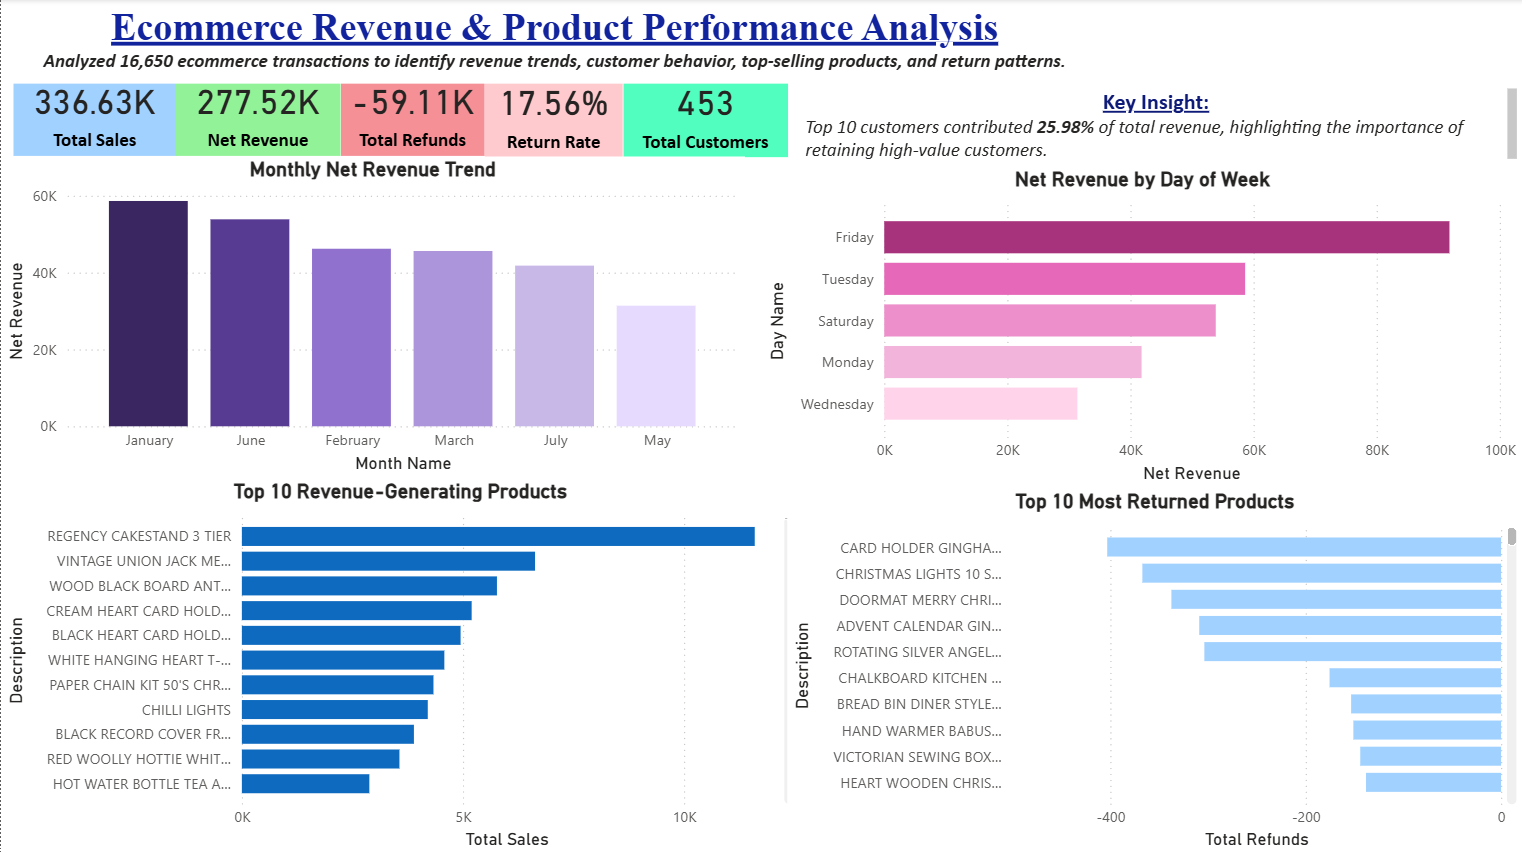

Layout of this report page (visuals, bound fields, positions):
{"tool":"powerbi","page":{"name":"Ecommerce Revenue & Product Performance Analysis","canvas":[1280,720],"ordinal":3},"visuals":[{"type":"card","fields":{"Values":["data.Total Sales"]},"box":[10.5,57,137.2,75.6],"z":0},{"type":"card","fields":{"Values":["data.Net Revenue"]},"box":[147.7,57,138.4,75.6],"z":1000},{"type":"card","fields":{"Values":["data.Total Refunds"]},"box":[286,57,120.9,75.6],"z":2000},{"type":"card","fields":{"Values":["data.Return Rate"]},"box":[407,58.1,116.3,75.6],"z":3000},{"type":"card","fields":{"Values":["data.Total Customers"]},"box":[523.3,58.1,138.4,75.6],"z":4000},{"type":"clusteredColumnChart","title":"Monthly Net Revenue Trend","fields":{"Category":["data.Month Name"],"Y":["data.Net Revenue"]},"box":[0,132.6,625.6,270.9],"z":5000},{"type":"clusteredBarChart","title":"Net Revenue by Day of Week","fields":{"Category":["data.Day Name"],"Y":["data.Net Revenue"]},"box":[640.7,140.7,639.5,270.9],"z":6000},{"type":"clusteredBarChart","title":"Top 10 Revenue-Generating Products","fields":{"Category":["data.Description"],"Y":["data.Total Sales"]},"box":[0,403.5,672.1,316.3],"z":7000},{"type":"clusteredBarChart","title":"Top 10 Most Returned Products","fields":{"Category":["data.Description"],"Y":["data.Total Refunds"]},"box":[661.6,411.6,618.6,308.1],"z":8000},{"type":"textbox","box":[0,0,931.4,70.9],"z":9000},{"type":"textbox","box":[672.1,70.9,608.1,69.8],"z":10000}]}

Visuals, with their boxes in screenshot pixels (x1, y1, x2, y2), scaled from the page's 1280x720 canvas onto the 1522x852 screenshot:
card - data.Total Sales: [x1=12, y1=67, x2=176, y2=157]
card - data.Net Revenue: [x1=176, y1=67, x2=340, y2=157]
card - data.Total Refunds: [x1=340, y1=67, x2=484, y2=157]
card - data.Return Rate: [x1=484, y1=69, x2=622, y2=158]
card - data.Total Customers: [x1=622, y1=69, x2=787, y2=158]
"Monthly Net Revenue Trend" clusteredColumnChart: [x1=0, y1=157, x2=744, y2=477]
"Net Revenue by Day of Week" clusteredBarChart: [x1=762, y1=166, x2=1521, y2=487]
"Top 10 Revenue-Generating Products" clusteredBarChart: [x1=0, y1=477, x2=799, y2=851]
"Top 10 Most Returned Products" clusteredBarChart: [x1=787, y1=487, x2=1521, y2=851]
textbox: [x1=0, y1=0, x2=1107, y2=84]
textbox: [x1=799, y1=84, x2=1521, y2=166]
